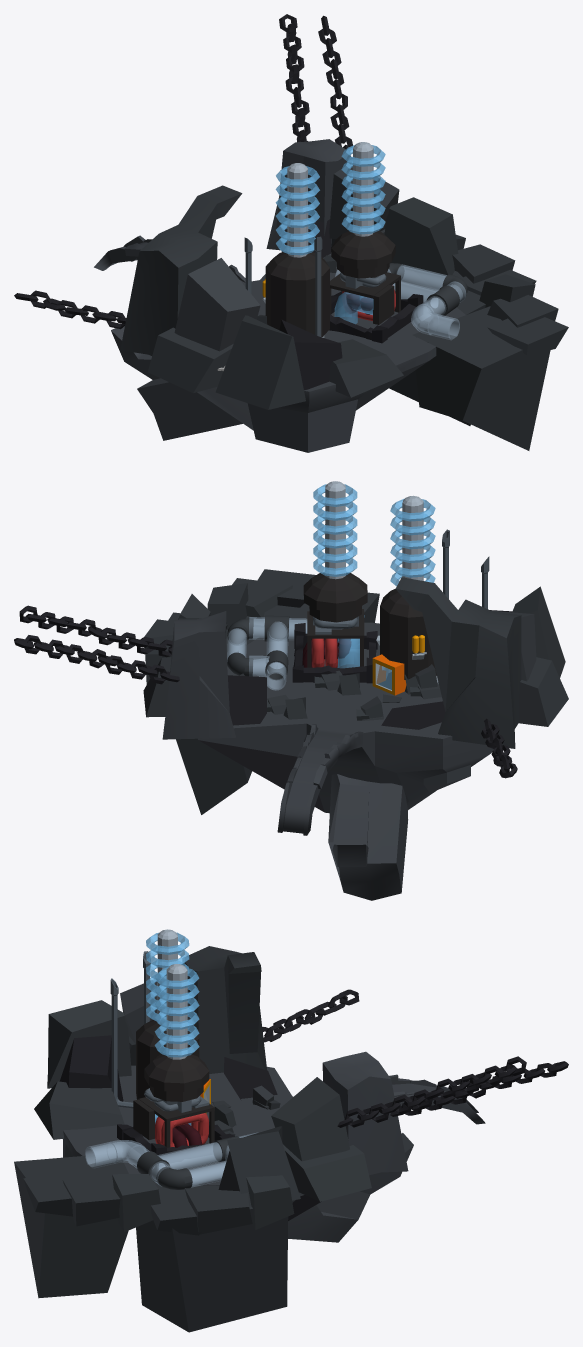
The model's file is Seg1_TeslaMachine.fbx.
The picture shows the model from 3 angles, top to bottom: view 1: azimuth 30°, elevation 25°; view 2: azimuth 150°, elevation 25°; view 3: azimuth 270°, elevation 25°; orthographic projection. The views are drawn at different scales.
Parts seen in each view (by area): view 1: TeslaMachine; view 2: TeslaMachine; view 3: TeslaMachine.
Part boxes in pixels (box(x1,y1,x2,y2)): TeslaMachine: box(14, 14, 568, 452); TeslaMachine: box(14, 481, 568, 900); TeslaMachine: box(14, 929, 568, 1332).
Bounding box in the file's own units: 34.78 × 24.95 × 38.76.
